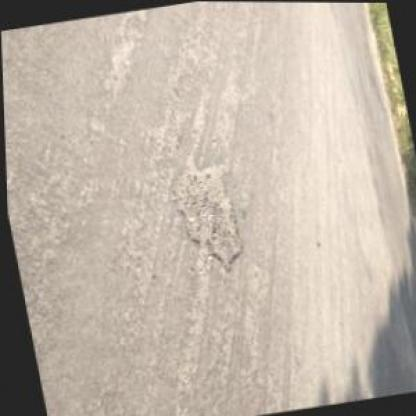pothole: (162, 148, 248, 279)
